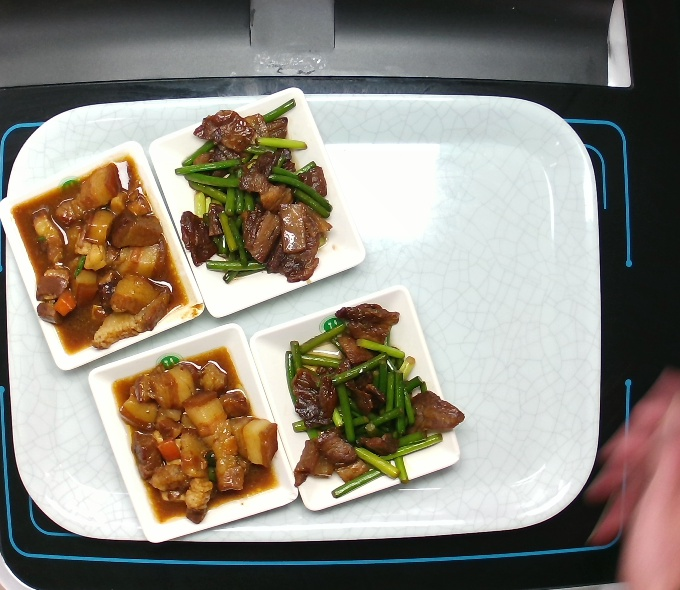wcq-HongShaoRou: (11, 156, 193, 361), (109, 345, 284, 527)
wcq-SuanMiaoChaoRou: (282, 301, 468, 494), (163, 96, 336, 292)
